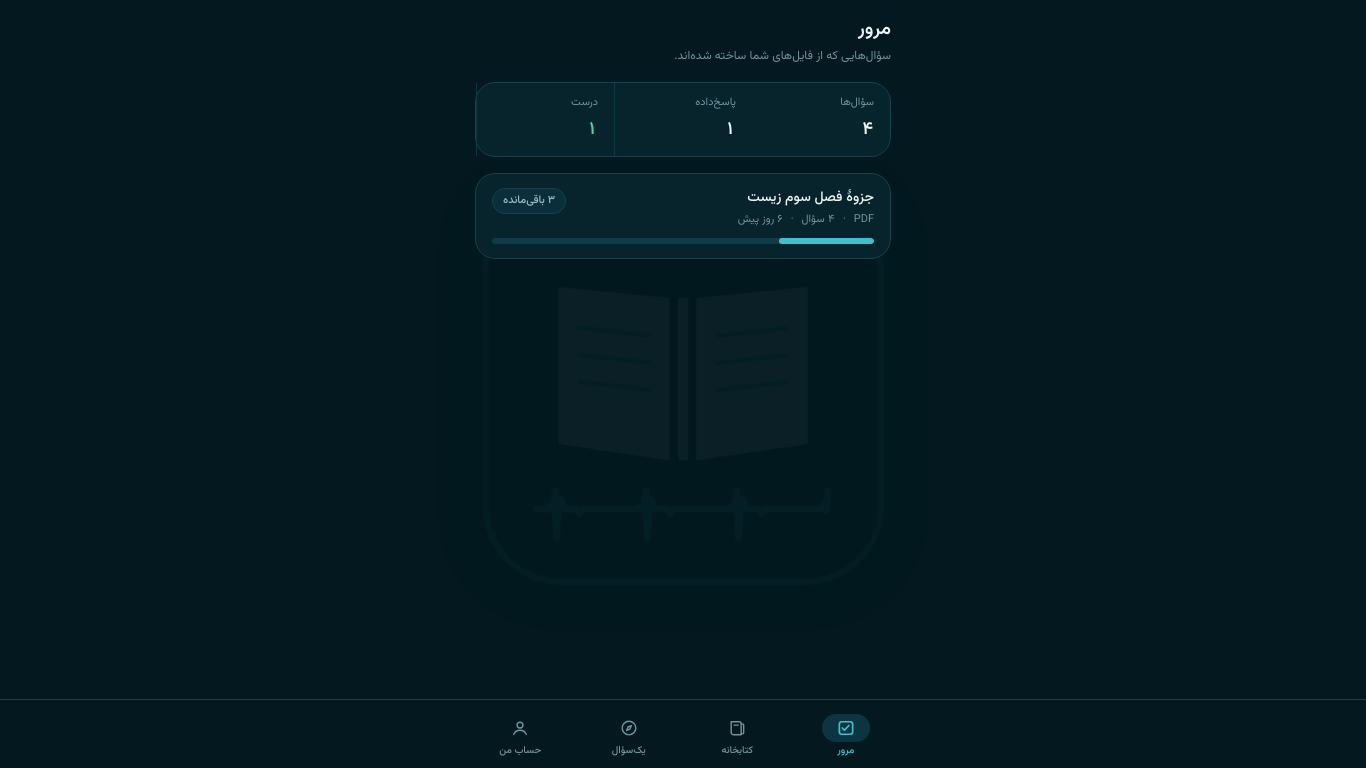
Gamas Mini App shell › answers a review question and reports the server's verdict
Expected: the tab "حساب من" is shown, [467, 708, 574, 762]
Step 1. Click the tab "مرور" → (846, 735), box [792, 708, 899, 762]
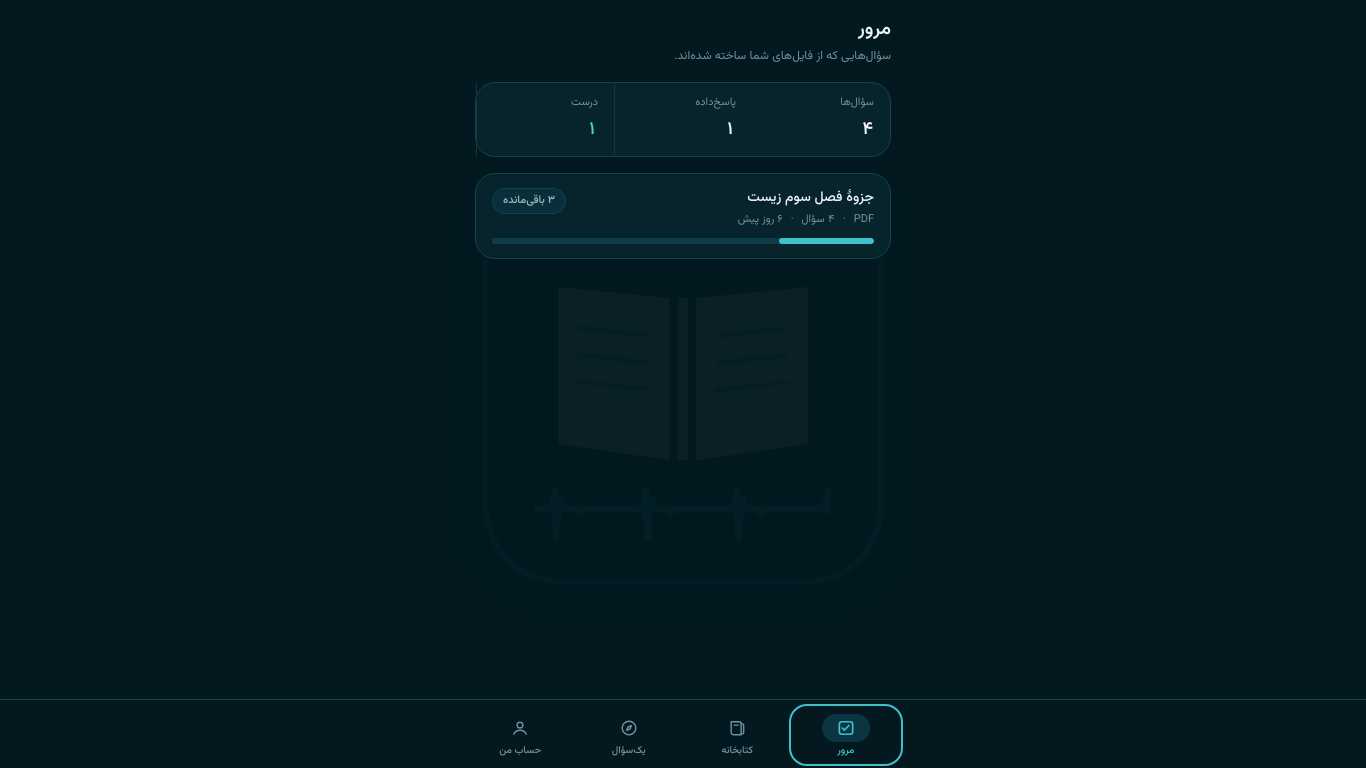
Step 2. Click the text "جزوهٔ فصل سوم زیست" → (806, 198), box [738, 188, 874, 208]
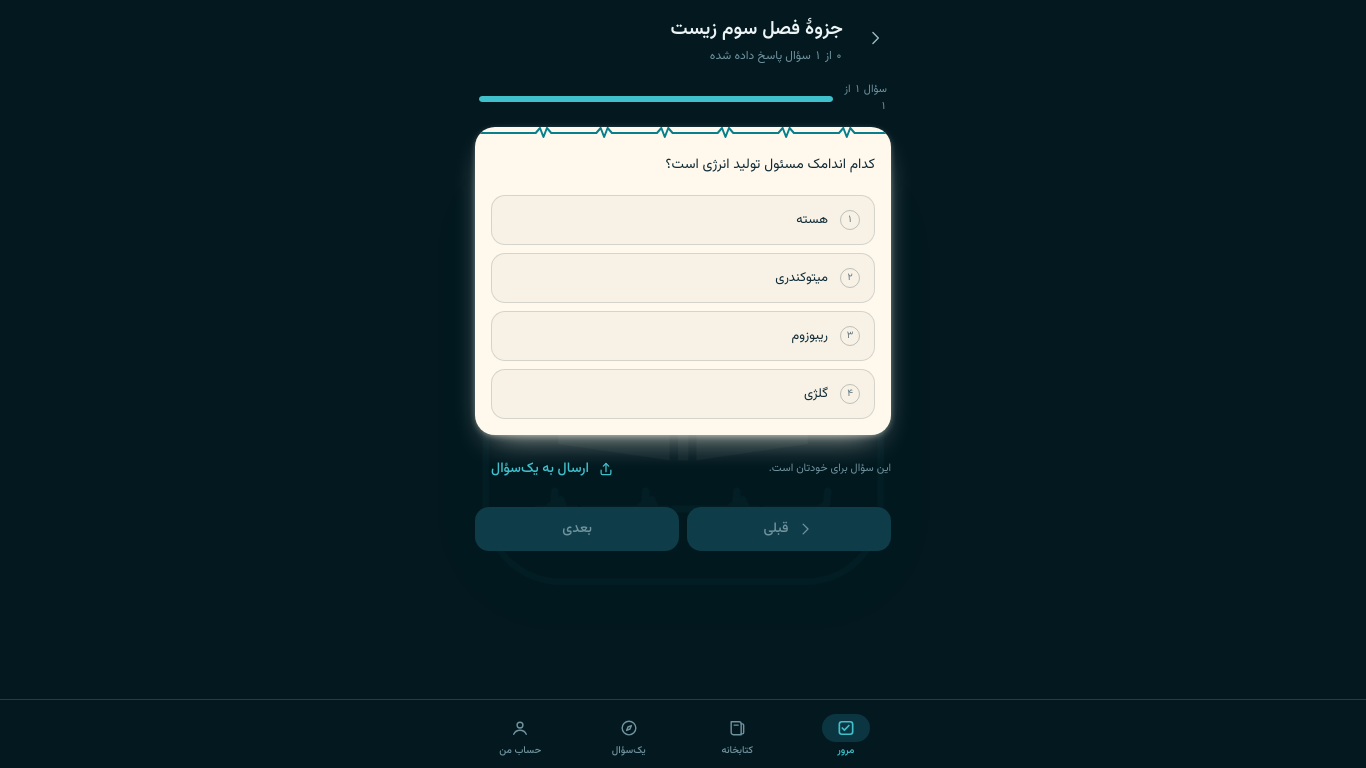
Step 3. Click the text "میتوکندری" → (802, 278), box [775, 268, 828, 288]
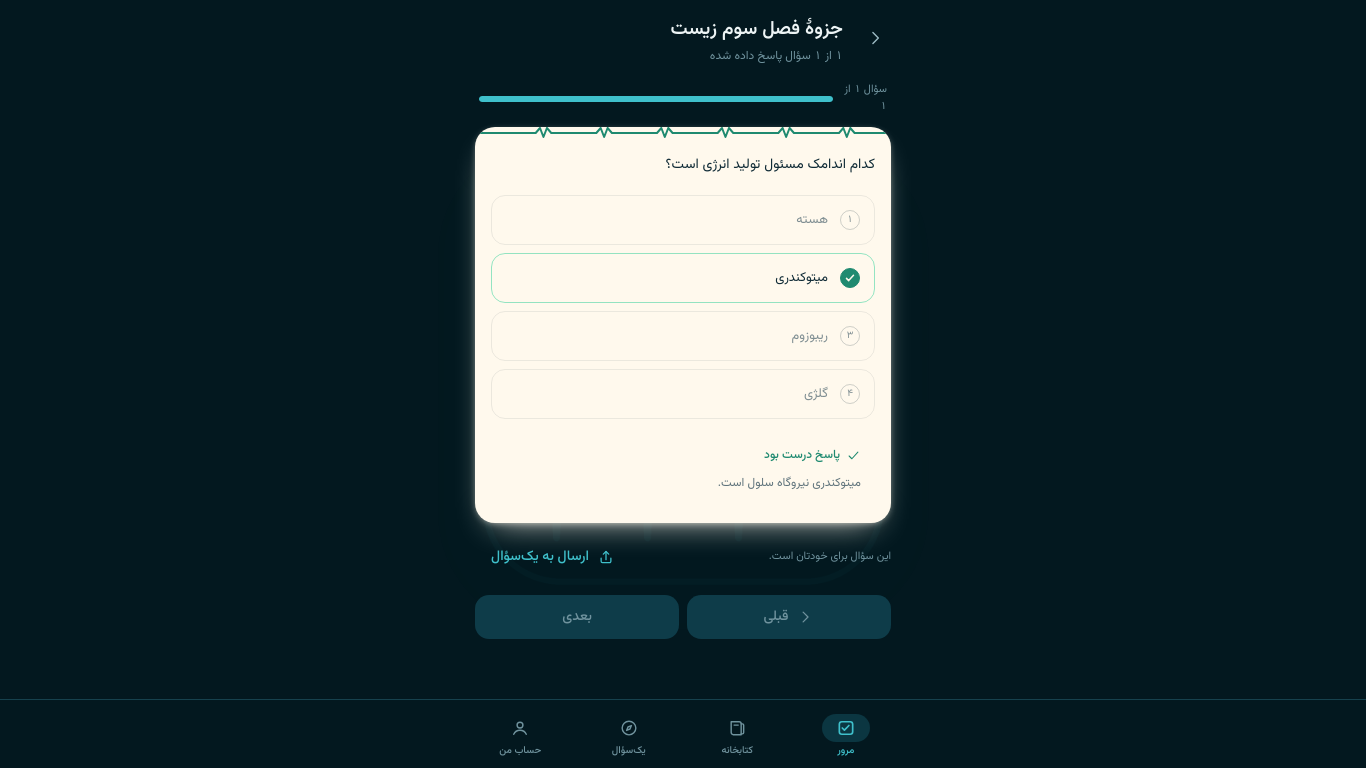
Expected: the text "پاسخ درست بود" is shown, [764, 446, 861, 464]
Expected: the text "میتوکندری نیروگاه سلول است." is shown, [718, 474, 861, 492]
